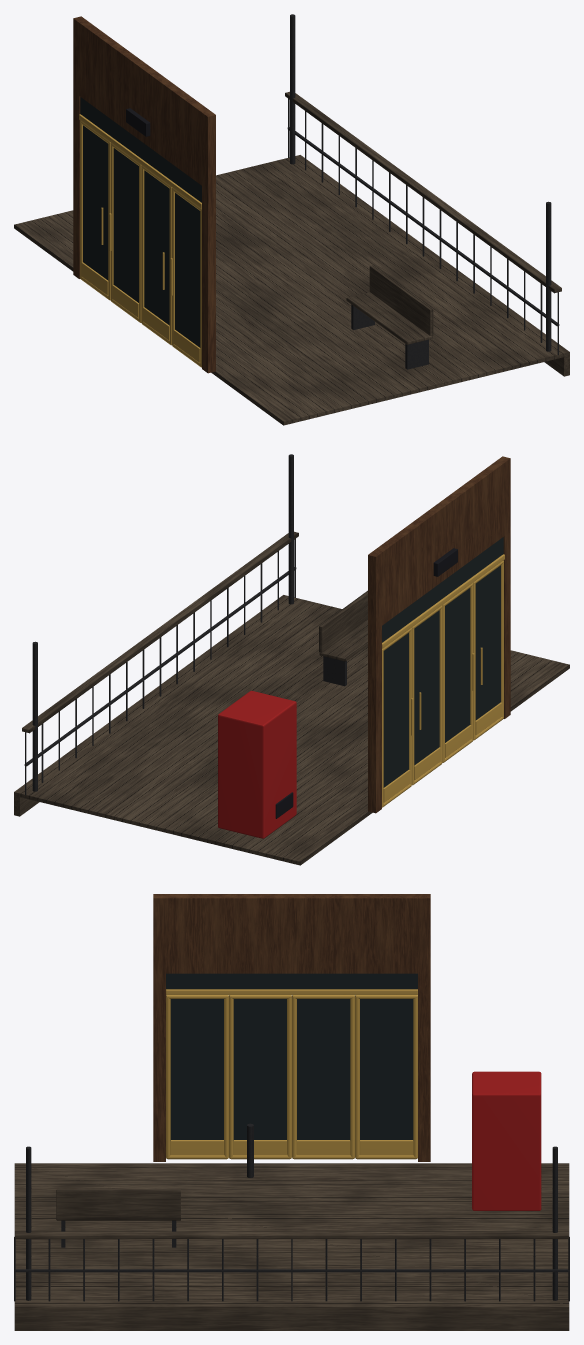
File: SM_CR_RiverDoors.glb
The picture shows the model from 3 angles, top to bottom: view 1: azimuth 30°, elevation 25°; view 2: azimuth 150°, elevation 25°; view 3: azimuth 270°, elevation 25°; orthographic projection. The views are drawn at different scales.
Visible parts, largest first — view 1: SM_CR_RiverDoors; view 2: SM_CR_RiverDoors; view 3: SM_CR_RiverDoors.
Part boxes in pixels (x1,y1,x2,y2): SM_CR_RiverDoors: [14, 14, 569, 425]; SM_CR_RiverDoors: [14, 454, 569, 865]; SM_CR_RiverDoors: [14, 894, 569, 1330].
Size of the model in its own units: 5.13 by 4.6 by 8.02.
7 materials, 7 textured.
